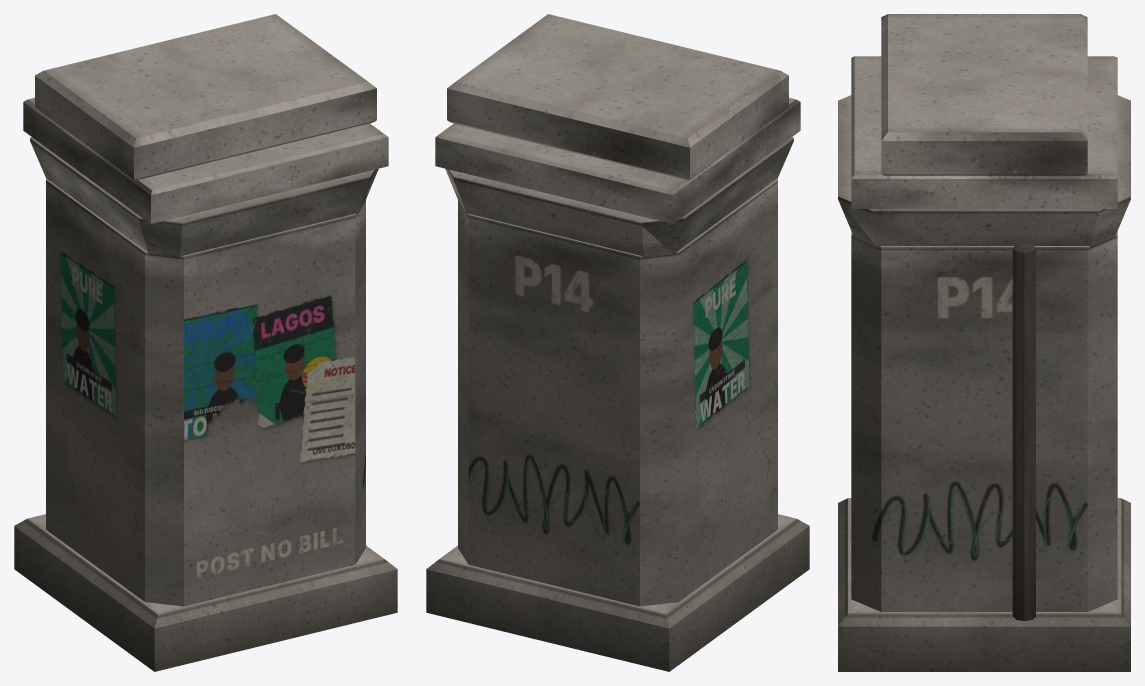
Rendered from prop_pillar_pier.glb.
3 renders of one model, left to right at view 1: azimuth 30°, elevation 25°; view 2: azimuth 150°, elevation 25°; view 3: azimuth 270°, elevation 25°, orthographic. The views are drawn at different scales.
Parts seen in each view (by area): view 1: prop_pillar_pier_body; view 2: prop_pillar_pier_body; view 3: prop_pillar_pier_body.
Part boxes in pixels (box(x1,y1,x2,y2)): prop_pillar_pier_body: box(14, 14, 397, 671); prop_pillar_pier_body: box(426, 14, 809, 671); prop_pillar_pier_body: box(838, 14, 1130, 671).
Bounding box in the file's own units: 0.905 × 1.78 × 0.88.
Materials: 1 (1 with a texture image).
